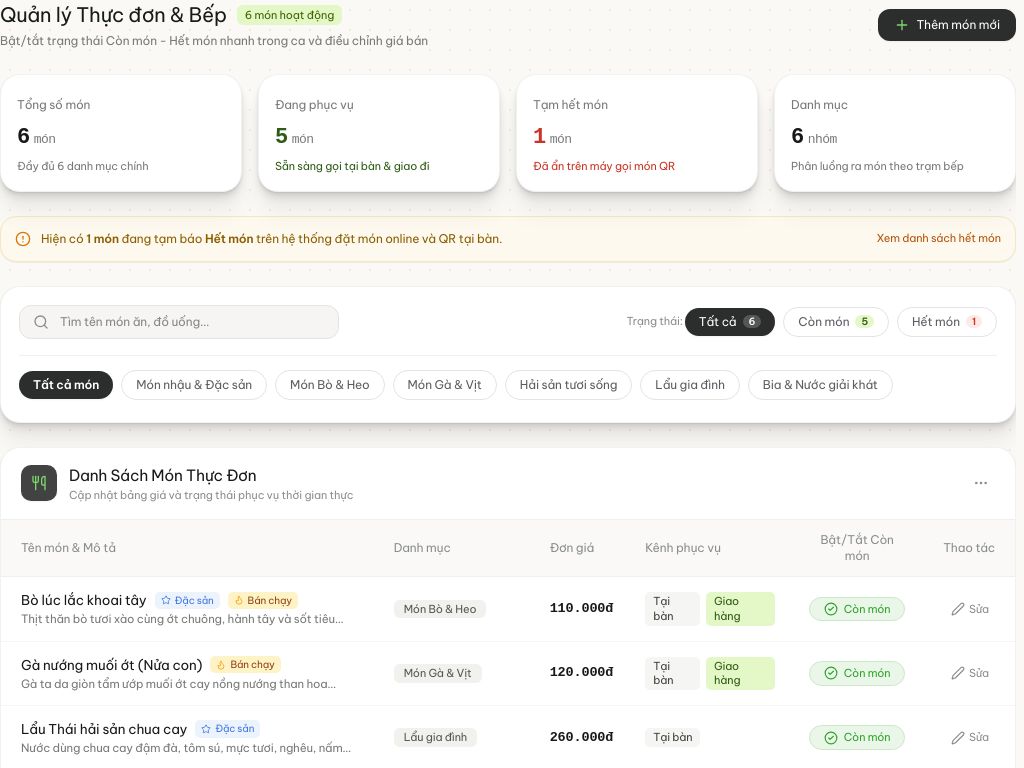
Scenario: AdminMenuPage Component (Elera Redesign) › filters items by availability status and search
The image size is (1024, 768).
// Filter "Hết món"
Click the button with aria-label "Lọc hết món": (947,322) top-left (897, 306), bottom-right (997, 336)
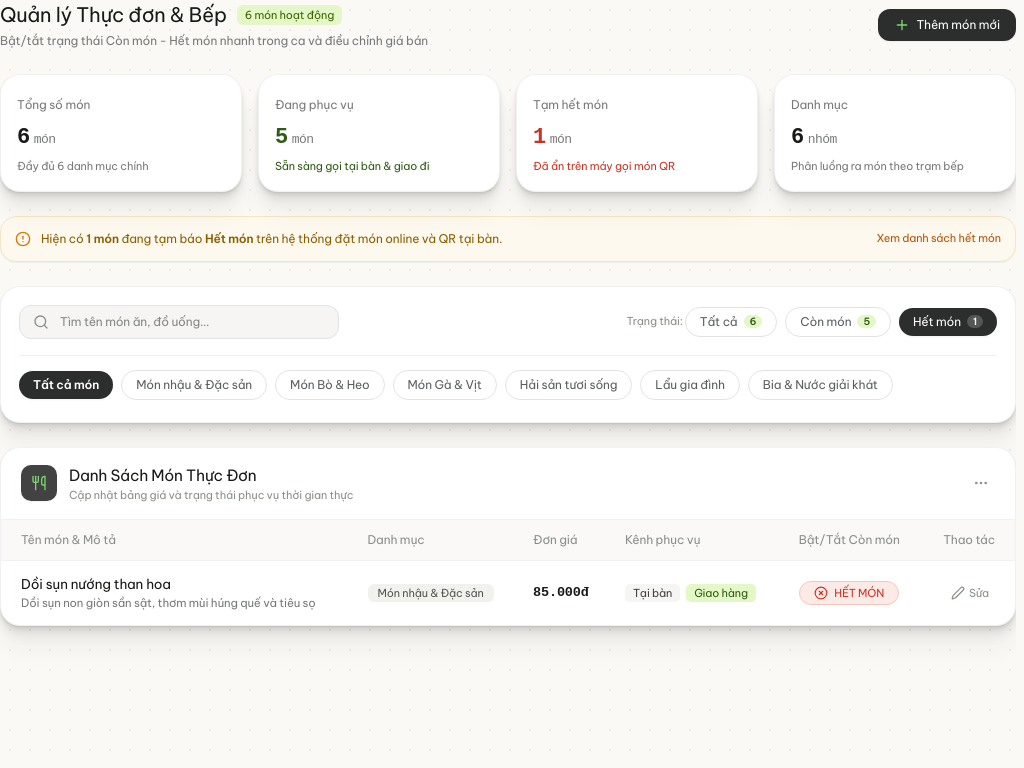
Expected: the text "Dồi sụn nướng than hoa" is shown, top-left (21, 575), bottom-right (171, 593)
Now the text "Bò lúc lắc khoai tây" is gone
// Search query
In the field with placeholder "Tìm tên món ăn, đồ uống...": (179,322) top-left (19, 304), bottom-right (339, 338), type "Không tồn tại 123"
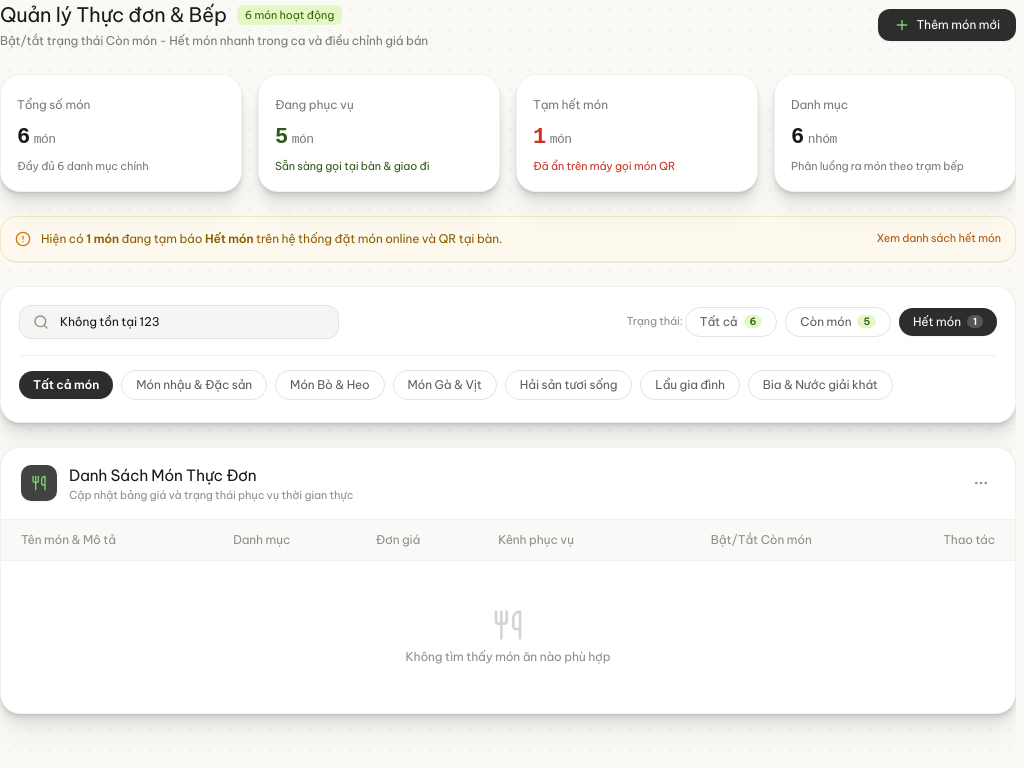
Now the text "Không tìm thấy món ăn nào phù hợp" is shown, box top-left (406, 649), bottom-right (610, 664)
